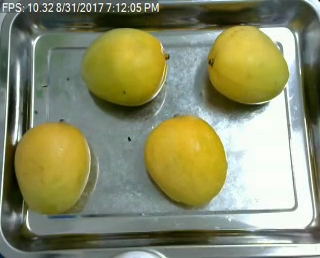Mango: (141, 114, 227, 206), (12, 116, 93, 211), (208, 21, 289, 109), (80, 25, 165, 107)
